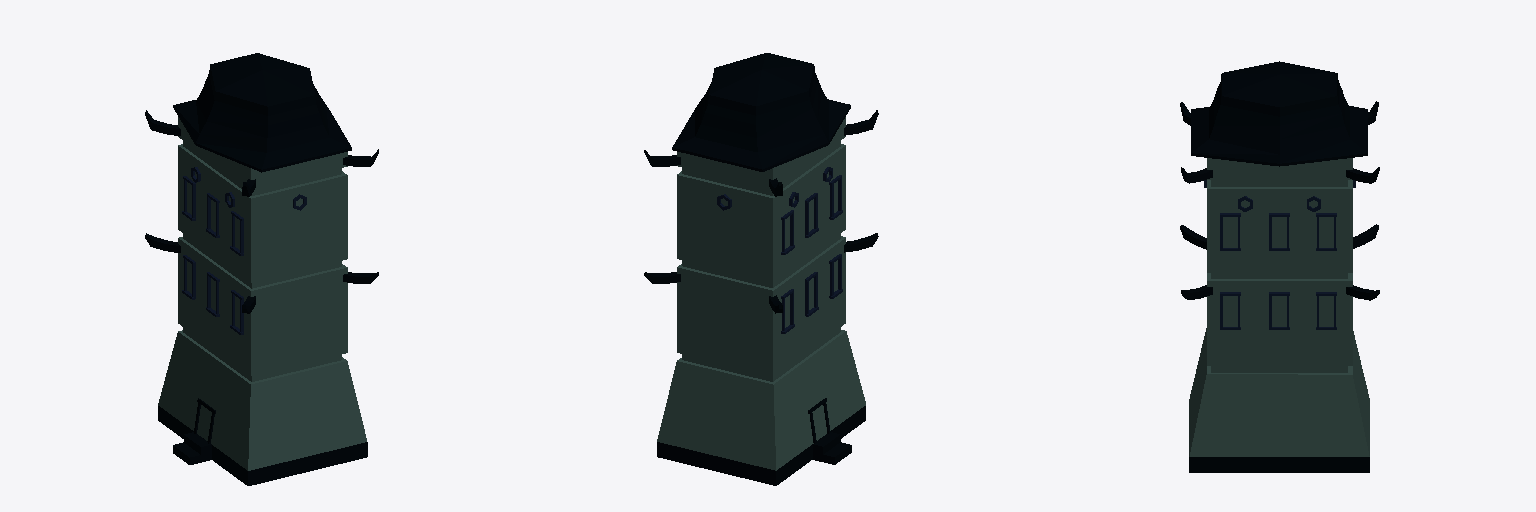
The model's file is Skycreeper_House_B.obj.
3 views of the same model, side by side, from view 1: azimuth 30°, elevation 25°; view 2: azimuth 150°, elevation 25°; view 3: azimuth 270°, elevation 25° (orthographic).
Visible parts, largest first — view 1: Skycreeper_House_B; view 2: Skycreeper_House_B; view 3: Skycreeper_House_B.
Boxes of the visible parts, box(x1,y1,x2,y2) form: Skycreeper_House_B: box(145, 53, 378, 485); Skycreeper_House_B: box(644, 53, 878, 485); Skycreeper_House_B: box(1180, 61, 1379, 472).
Size of the model in its own units: 19.58 by 46.04 by 22.56.